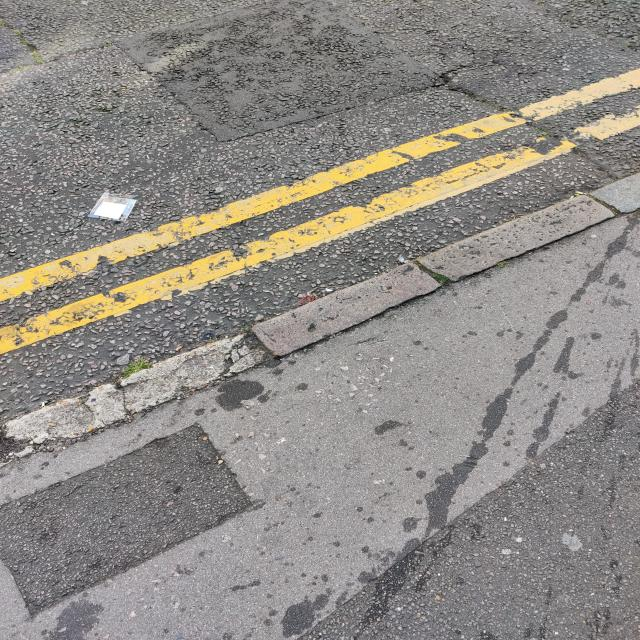litter: (69, 175, 165, 236)
